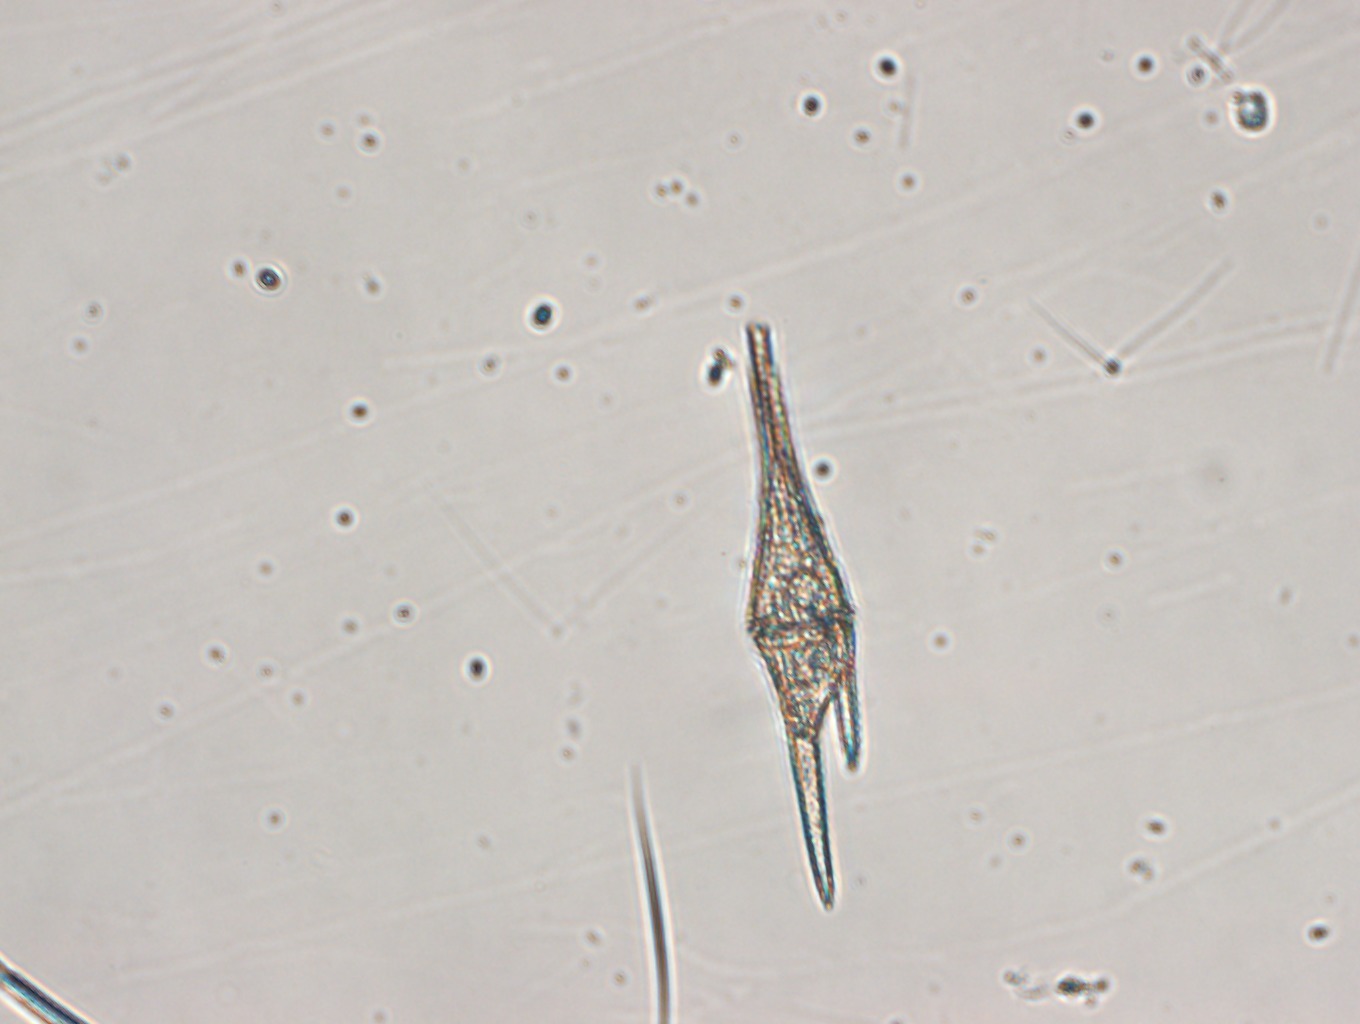ceratium furca: (744, 319, 860, 913)
